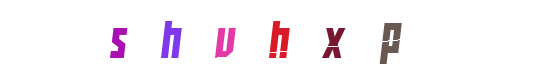H: (136, 0, 216, 80), (230, 0, 310, 80)
P: (327, 0, 407, 80)
S: (131, 0, 211, 80)
V: (227, 0, 307, 80)
X: (239, 0, 319, 80)
